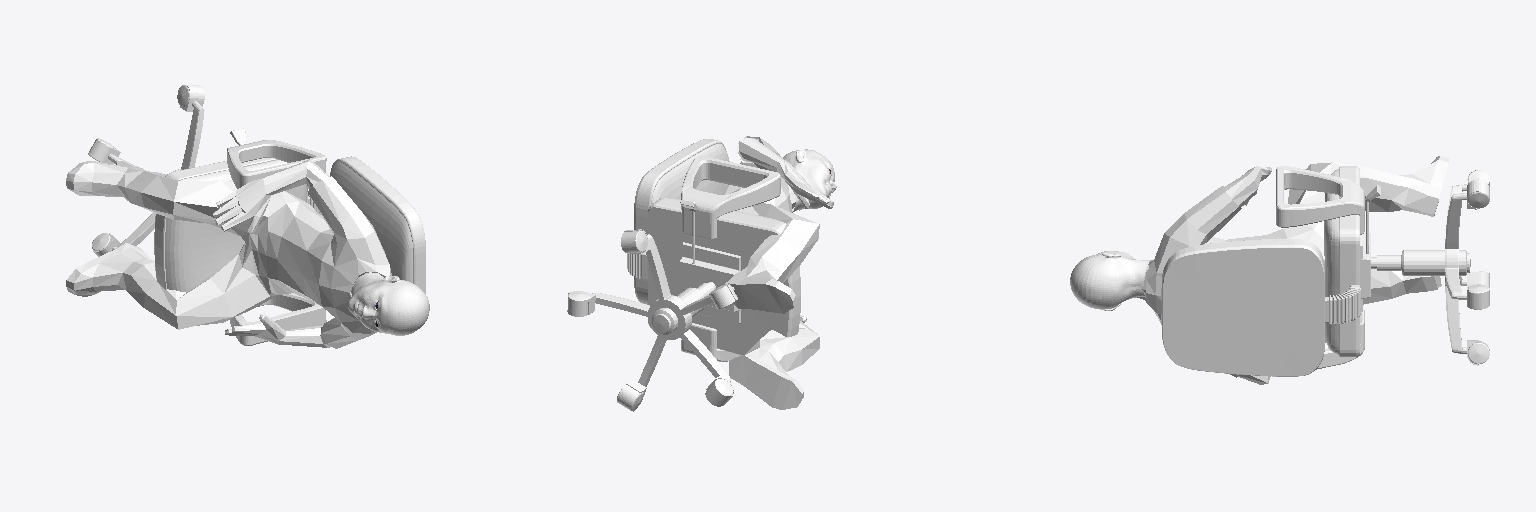
3 renders of one model, left to right at view 1: azimuth 30°, elevation 25°; view 2: azimuth 150°, elevation 25°; view 3: azimuth 270°, elevation 25°, orthographic.
Parts seen in each view (by area): view 1: Object.5, Object.1, Object.4, Object.2; view 2: Object.1, Object.5, Object.4, Object.2; view 3: Object.1, Object.5, Object.2, Object.4.
Part boxes in pixels (x1,y1,x2,y2): Object.5: (66,161,391,348); Object.1: (88,85,425,345); Object.4: (213,159,330,347); Object.2: (348,274,429,335); Object.1: (567,139,800,411); Object.5: (725,136,819,409); Object.4: (738,138,833,322); Object.2: (783,149,836,212); Object.1: (1161,166,1489,376); Object.5: (1146,156,1448,377); Object.2: (1070,251,1152,310); Object.4: (1224,166,1271,384).
Size of the model in its own units: 213 by 178 by 345.
Materials: 9 (2 with a texture image).